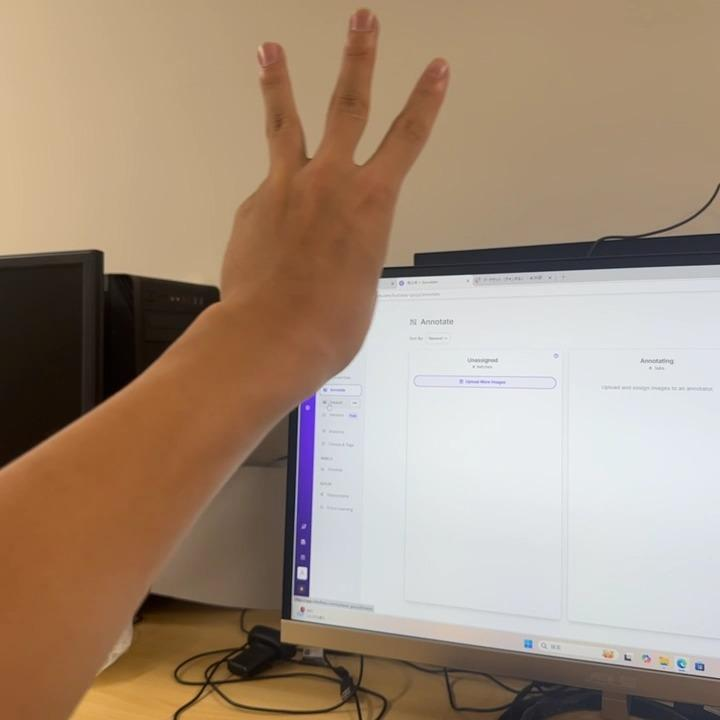without_gloves: (122, 0, 547, 396)
